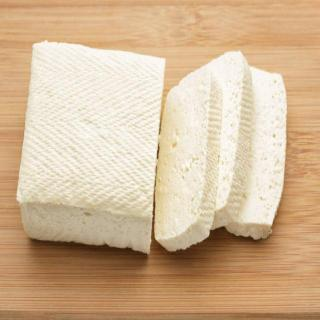Tahu: (18, 35, 164, 268), (154, 62, 299, 258)
